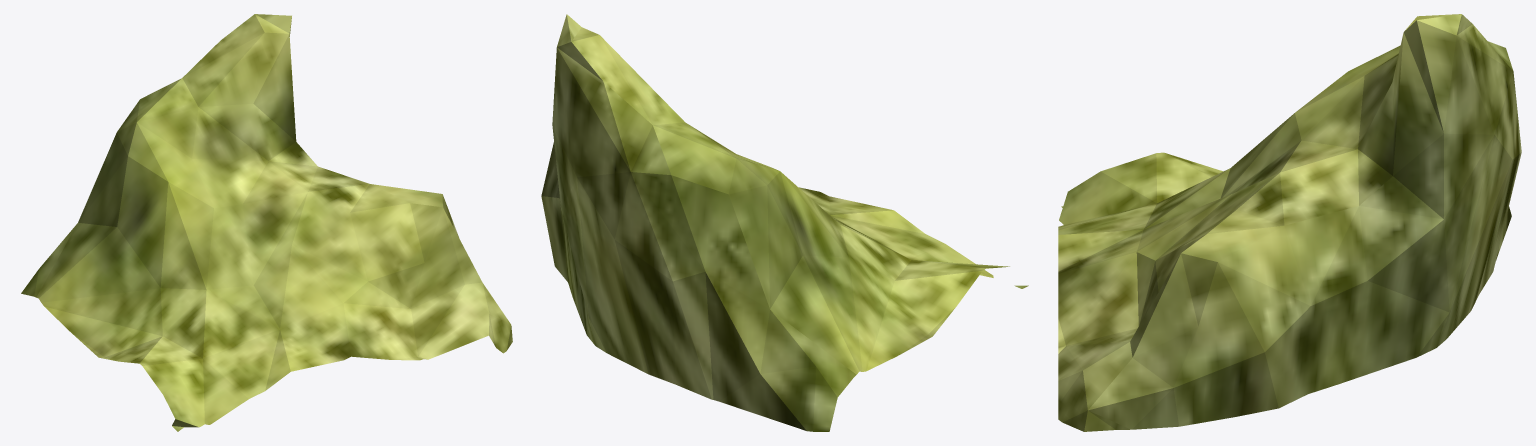
3 renders of one model, left to right at view 1: azimuth 30°, elevation 25°; view 2: azimuth 150°, elevation 25°; view 3: azimuth 270°, elevation 25°, orthographic. The views are drawn at different scales.
Bounding box in the file's own units: 1.02 × 0.7357 × 0.8875.
1 material, 1 textured.
